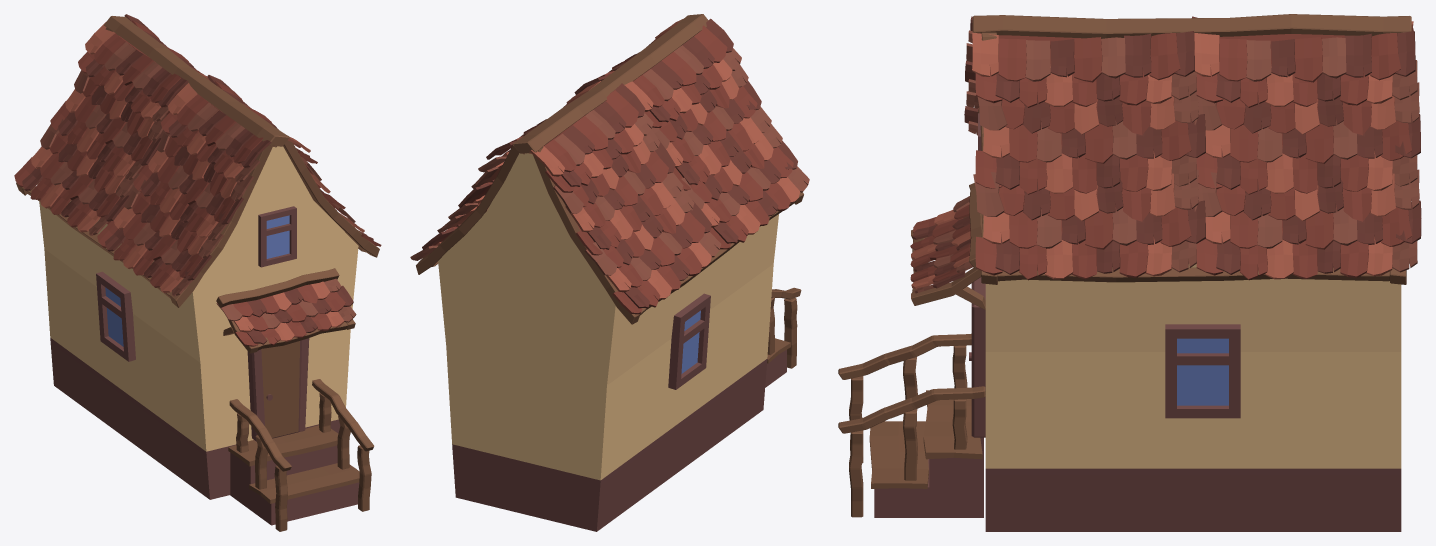
File: house.fbx
3 views of the same model, side by side, from view 1: azimuth 30°, elevation 25°; view 2: azimuth 150°, elevation 25°; view 3: azimuth 270°, elevation 25° (orthographic). The views are drawn at different scales.
Parts seen in each view (by area): view 1: House, Tiles.001, Tiles.000, Railing, WoodenStructure.001, Door, StairsBase, StairsTop, Plane.001, WoodenStructure, Plane.002, WoodenStructure.002 (+1 smaller); view 2: House, Tiles.001, WoodenStructure.001, Plane.001, Tiles.002, WoodenStructure.002, Railing, StairsBase; view 3: Tiles.002, House, WoodenStructure.001, Railing, Plane, StairsTop, StairsBase, Tiles.000, WoodenStructure, Door, Tiles.001.
Boxes of the visible parts, left/top/right/bottom form: House: left=37, top=36, right=358, bottom=499; Tiles.001: left=14, top=22, right=271, bottom=296; Tiles.000: left=216, top=278, right=356, bottom=346; Railing: left=229, top=379, right=374, bottom=531; WoodenStructure.001: left=104, top=16, right=379, bottom=257; Door: left=247, top=338, right=309, bottom=441; StairsBase: left=230, top=445, right=359, bottom=525; StairsTop: left=228, top=425, right=359, bottom=503; Plane.001: left=96, top=271, right=135, bottom=361; WoodenStructure: left=216, top=268, right=355, bottom=353; Plane.002: left=258, top=206, right=296, bottom=267; WoodenStructure.002: left=16, top=27, right=276, bottom=307; House: left=438, top=66, right=778, bottom=531; Tiles.001: left=529, top=18, right=809, bottom=314; WoodenStructure.001: left=416, top=14, right=708, bottom=274; Plane.001: left=668, top=293, right=710, bottom=389; Tiles.002: left=410, top=19, right=682, bottom=260; WoodenStructure.002: left=526, top=147, right=803, bottom=324; Railing: left=767, top=287, right=801, bottom=368; StairsBase: left=765, top=350, right=786, bottom=387; Tiles.002: left=972, top=31, right=1421, bottom=280; House: left=985, top=34, right=1401, bottom=531; WoodenStructure.001: left=972, top=14, right=1411, bottom=284; Railing: left=838, top=333, right=985, bottom=517; Plane: left=1165, top=324, right=1240, bottom=418; StairsTop: left=869, top=390, right=982, bottom=488; StairsBase: left=874, top=437, right=983, bottom=517; Tiles.000: left=910, top=196, right=972, bottom=293; WoodenStructure: left=911, top=183, right=985, bottom=309; Door: left=969, top=277, right=985, bottom=437; Tiles.001: left=964, top=16, right=1413, bottom=135.
Size of the model in its own units: 188 by 299 by 336.
